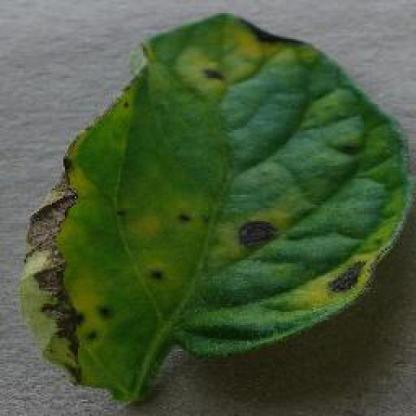Tomato_Blight: (19, 13, 409, 400)
